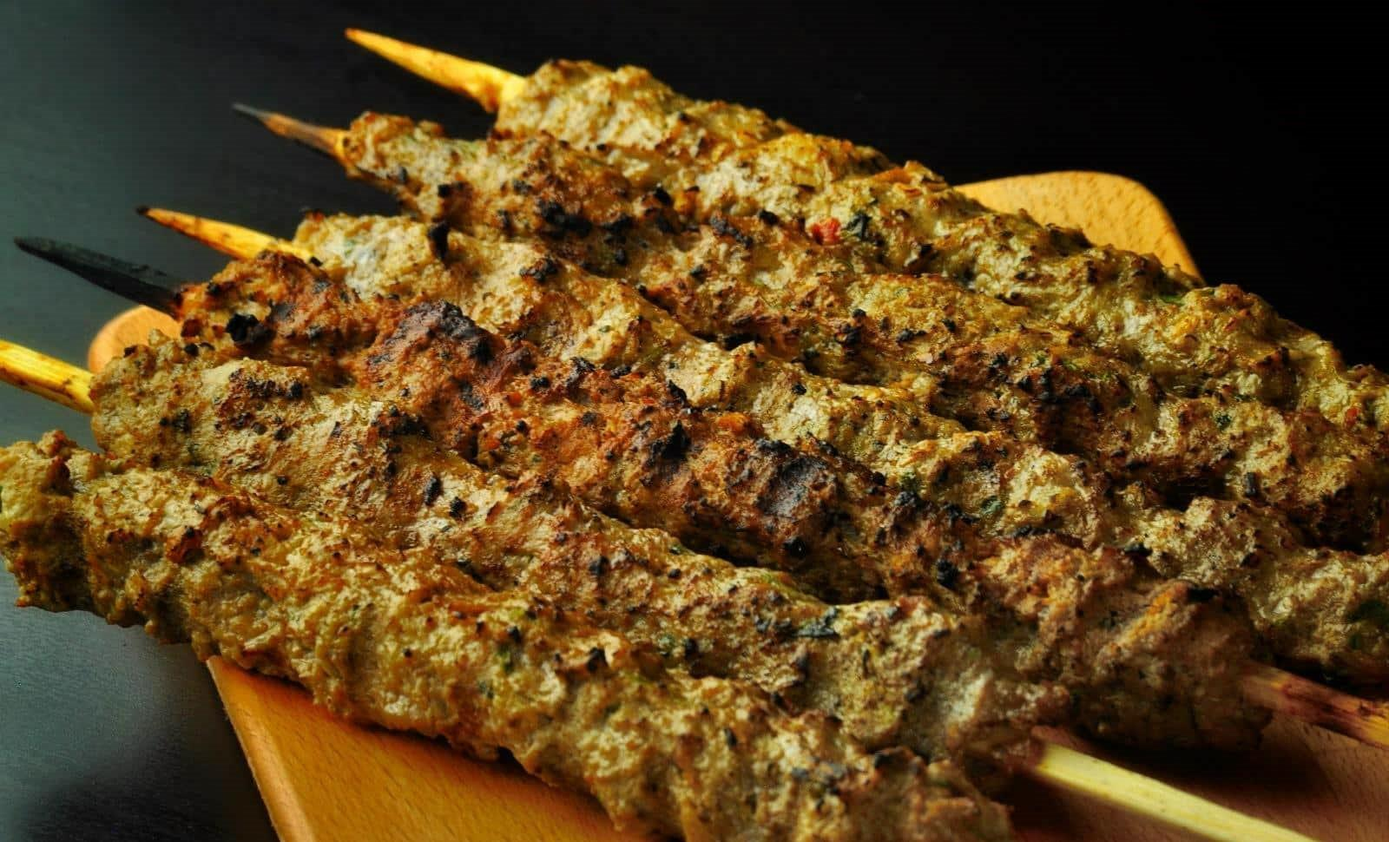Kebab: (186, 244, 1268, 758), (294, 210, 1384, 690), (86, 324, 1055, 799), (337, 111, 1389, 542), (0, 432, 1019, 842), (496, 59, 1389, 452)
